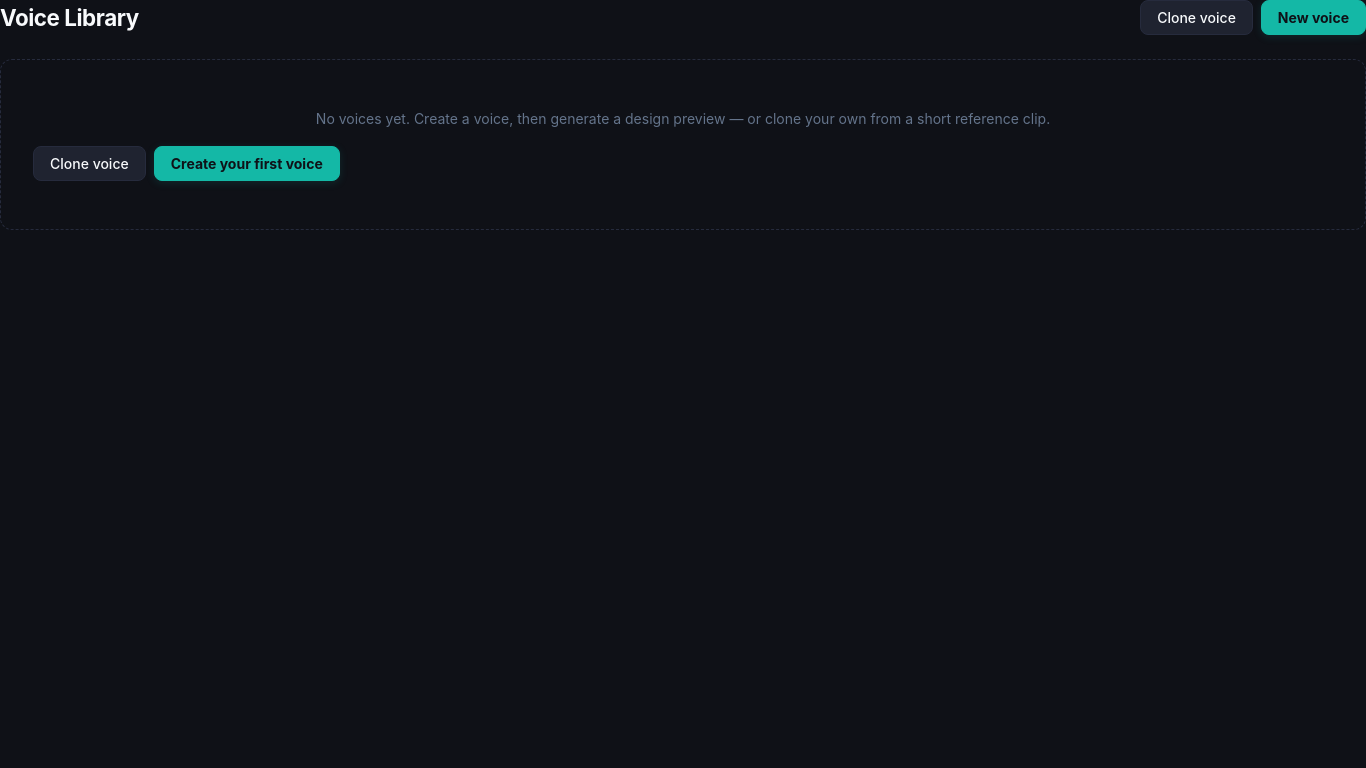
it: VoiceLibraryPage — create & design › renders live character counters
Click the button "New voice" at (1313, 18), box [1261,0,1365,35]
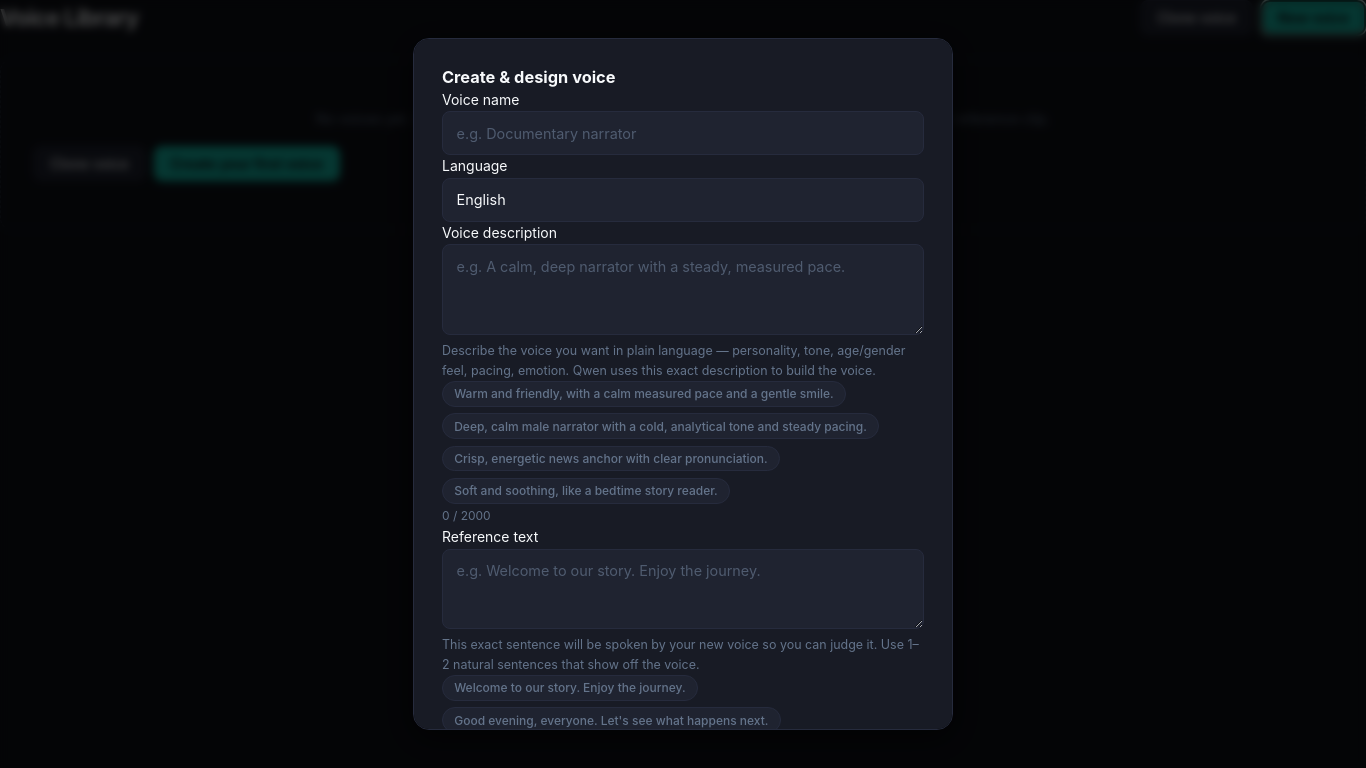
Now the text "0 / 2000" is shown 2 times
Type "abc" into the text box named "voice description" at (683, 289), box [442,244,924,334]
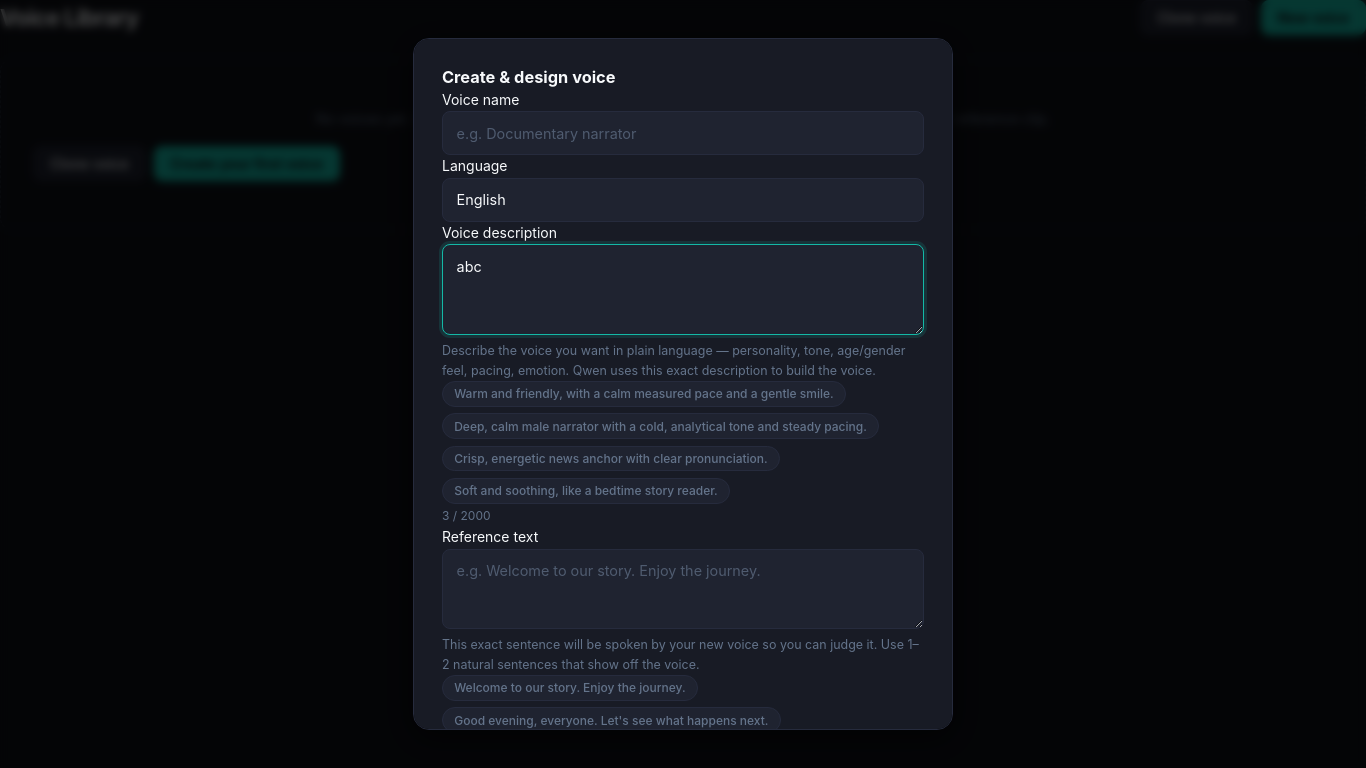
Now the text "3 / 2000" is shown, box [442,508,490,523]
Type "abcdef" into the text box named "reference text" at (683, 589), box [442,549,924,629]
(page scrolled)
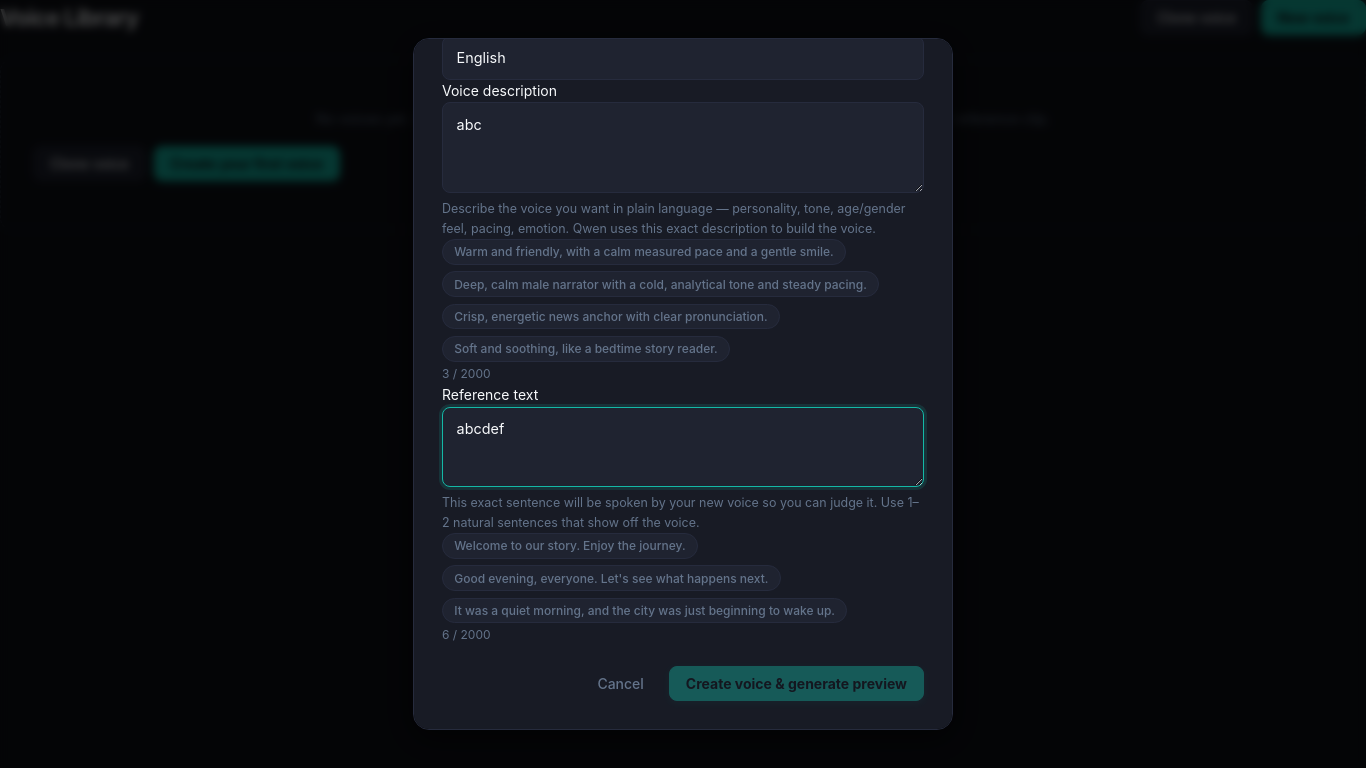
Now the text "6 / 2000" is shown, box [442,628,491,642]
